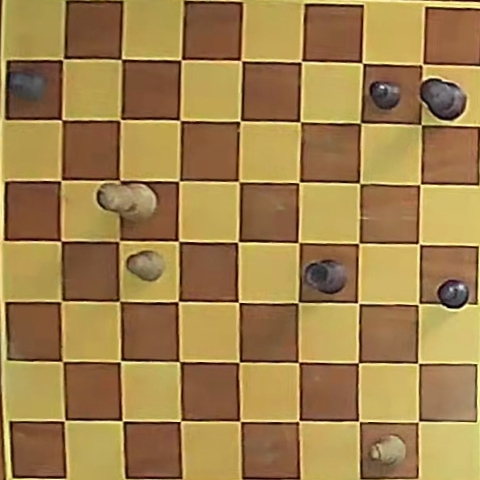black-king: (419, 78, 466, 120)
black-pawn: (9, 69, 47, 101), (437, 279, 469, 309), (370, 81, 401, 109)
black-rook: (304, 260, 346, 294)
white-bishop: (370, 436, 406, 466)
white-king: (97, 183, 156, 222)
white-pawn: (126, 250, 165, 281)
